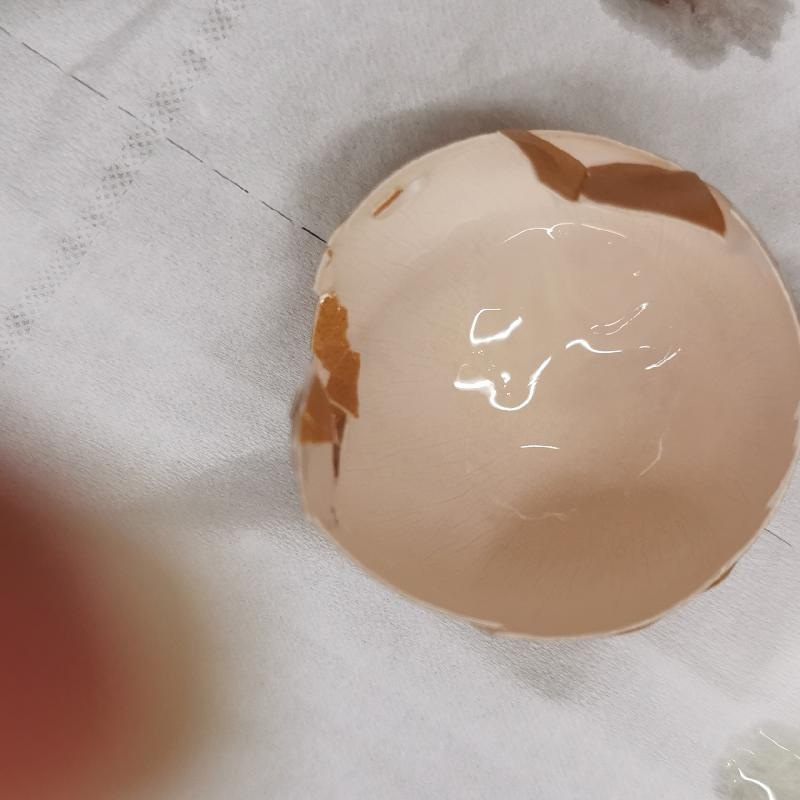eggshell: (280, 121, 795, 643)
